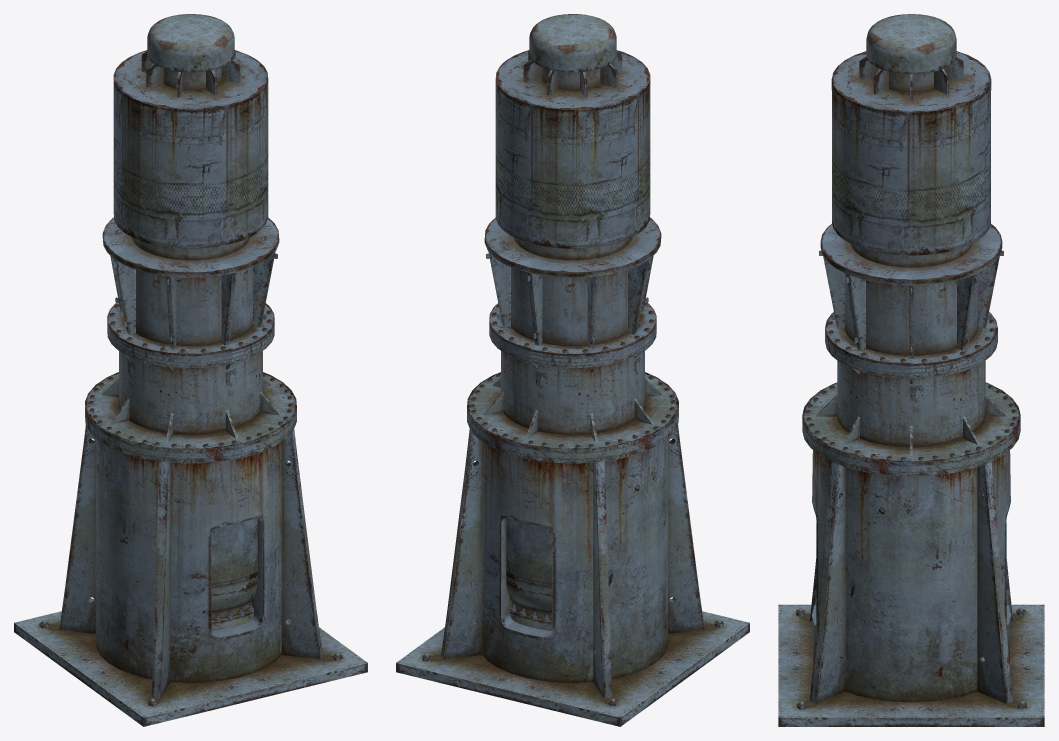
File: sm22_005_motorpumpb01a.fbx
3 views of the same model, side by side, from view 1: azimuth 30°, elevation 25°; view 2: azimuth 150°, elevation 25°; view 3: azimuth 270°, elevation 25° (orthographic). The views are drawn at different scales.
Parts seen in each view (by area): view 1: LOD_1_Group_0_Sub_1__sm22_005_MotorPumpB01A_A_Mat; view 2: LOD_1_Group_0_Sub_1__sm22_005_MotorPumpB01A_A_Mat; view 3: LOD_1_Group_0_Sub_1__sm22_005_MotorPumpB01A_A_Mat.
Boxes of the visible parts, bbox=[...] form: LOD_1_Group_0_Sub_1__sm22_005_MotorPumpB01A_A_Mat: bbox=[14, 14, 367, 726]; LOD_1_Group_0_Sub_1__sm22_005_MotorPumpB01A_A_Mat: bbox=[396, 14, 749, 726]; LOD_1_Group_0_Sub_1__sm22_005_MotorPumpB01A_A_Mat: bbox=[778, 14, 1044, 726].
Size of the model in its own units: 2 by 5.32 by 2.
